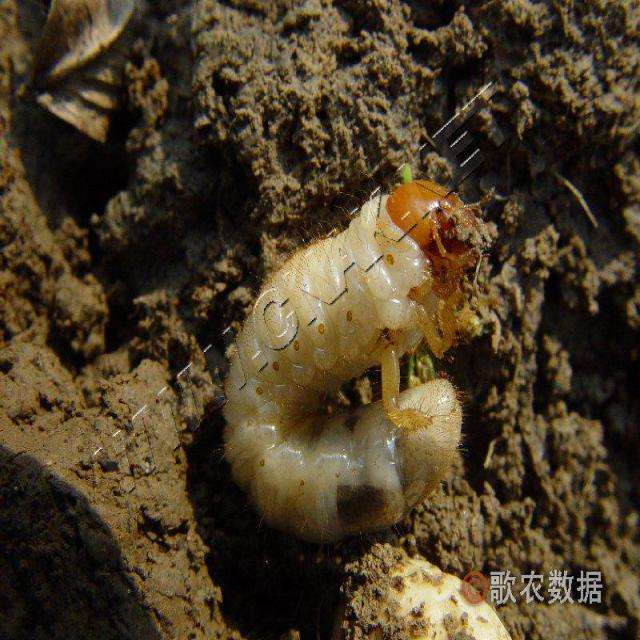Grub-Adult-: (206, 170, 515, 559)
